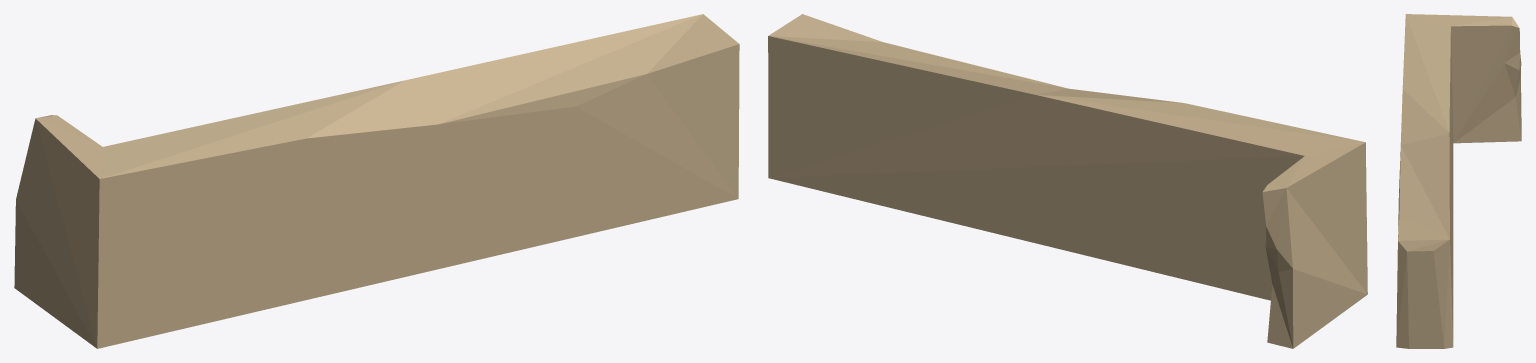
The model's file is House_Block_Extra_low.fbx.
3 views of the same model, side by side, from view 1: azimuth 30°, elevation 25°; view 2: azimuth 150°, elevation 25°; view 3: azimuth 270°, elevation 25° (orthographic). The views are drawn at different scales.
Parts seen in each view (by area): view 1: House_Block_Extra_low; view 2: House_Block_Extra_low; view 3: House_Block_Extra_low.
Boxes of the visible parts, left/top/right/bottom form: House_Block_Extra_low: left=14, top=14, right=739, bottom=348; House_Block_Extra_low: left=768, top=14, right=1367, bottom=348; House_Block_Extra_low: left=1396, top=14, right=1521, bottom=348.
Size of the model in its own units: 4.49 by 1.15 by 1.09.
